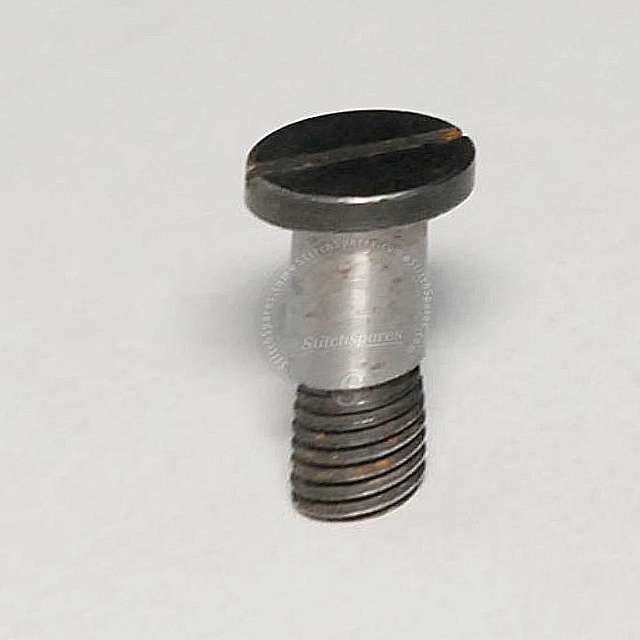duz: (235, 102, 479, 242)
